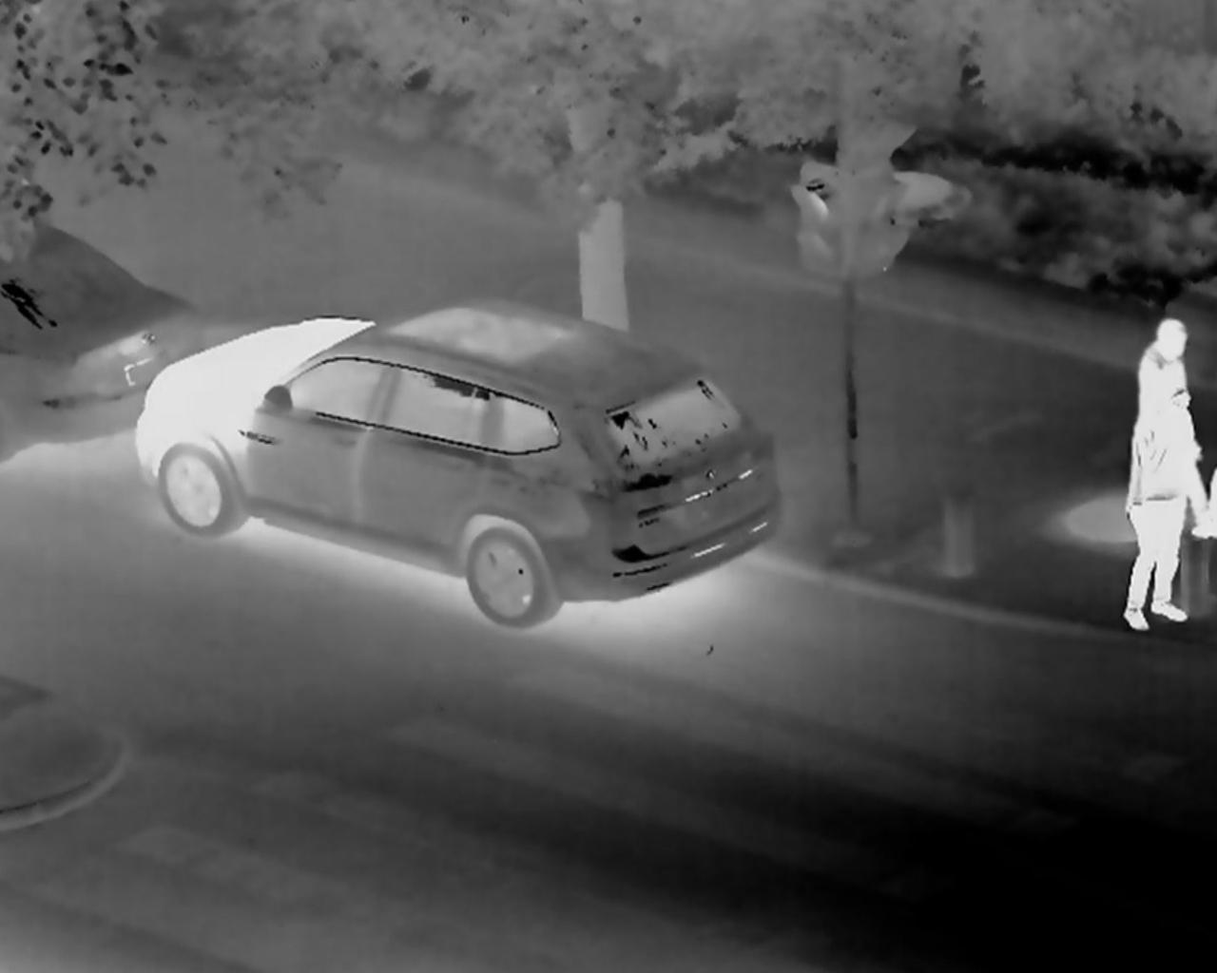person: (1124, 373, 1196, 630), (1136, 315, 1212, 540)
